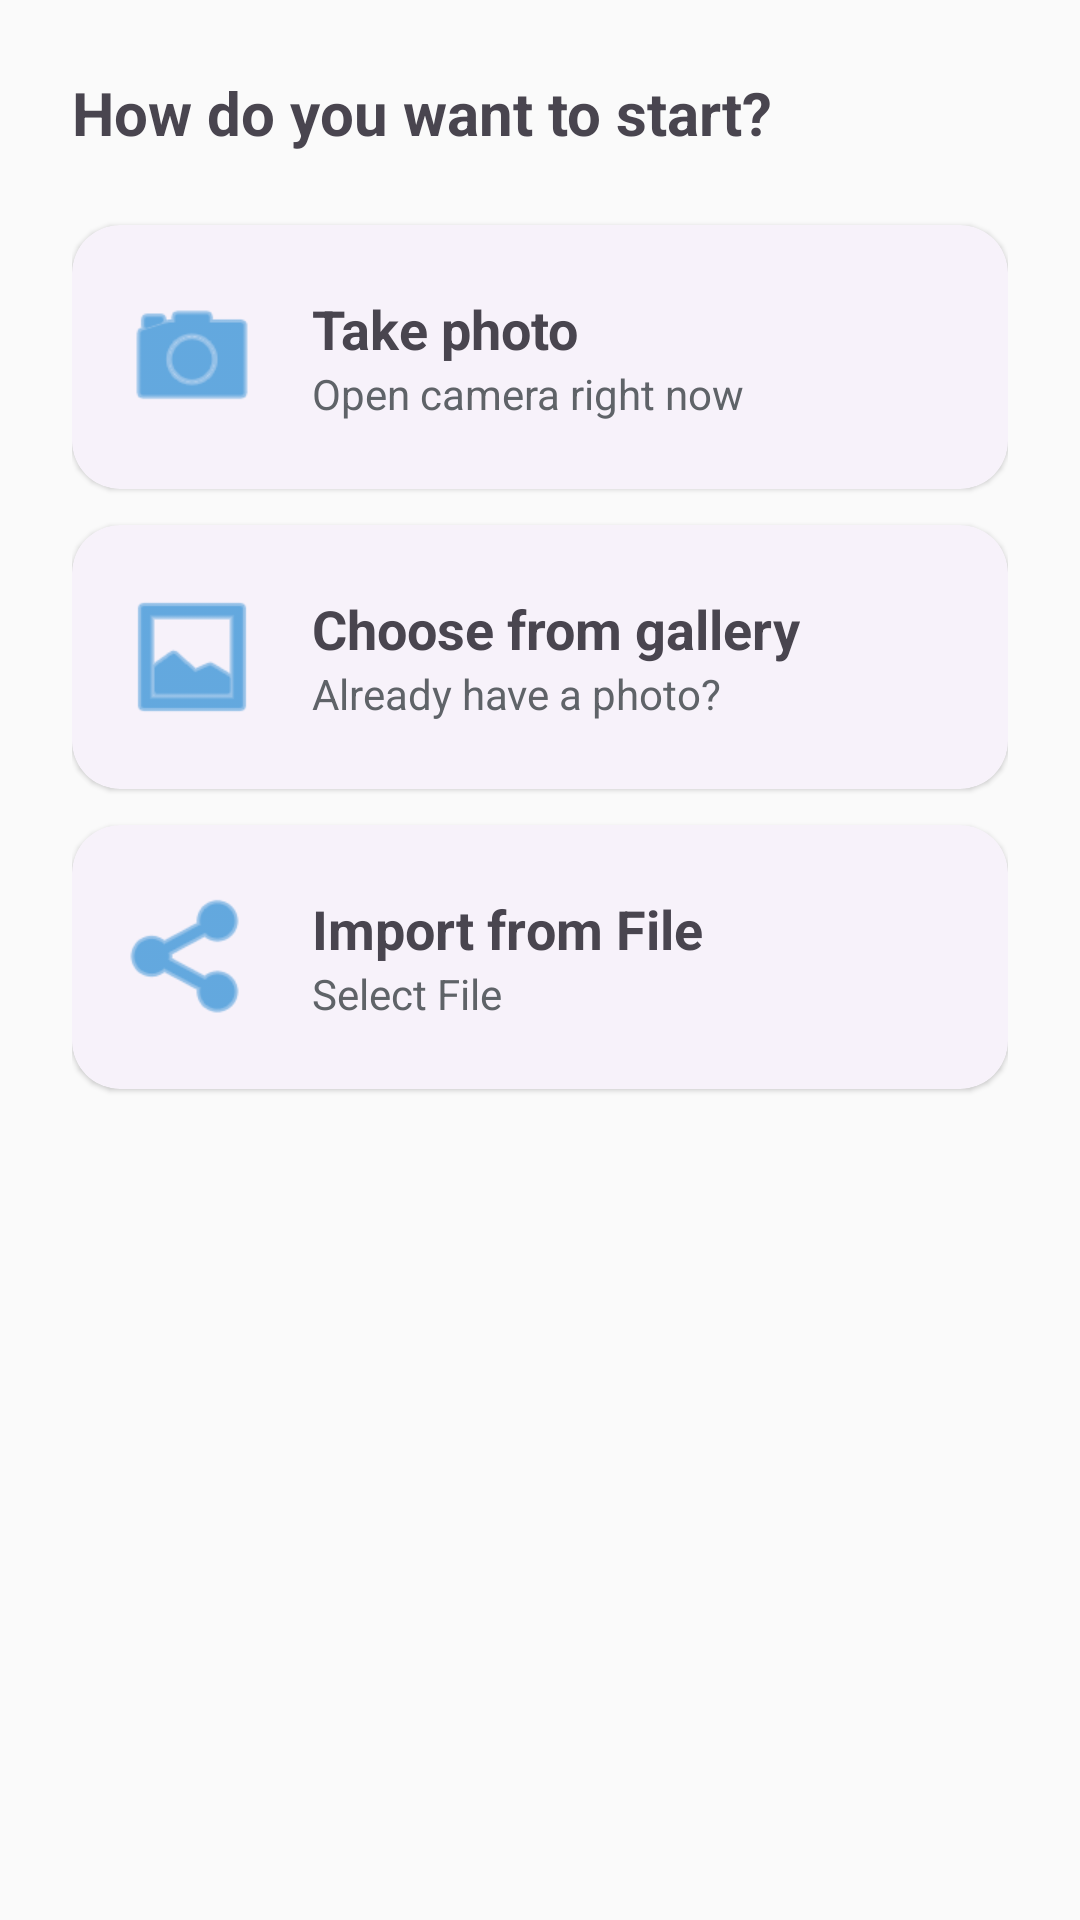

Screen size 1080×1920. Icon name, then its box in pixels as (x1, y1, x2, y2):
share: (130, 900, 239, 1013)
